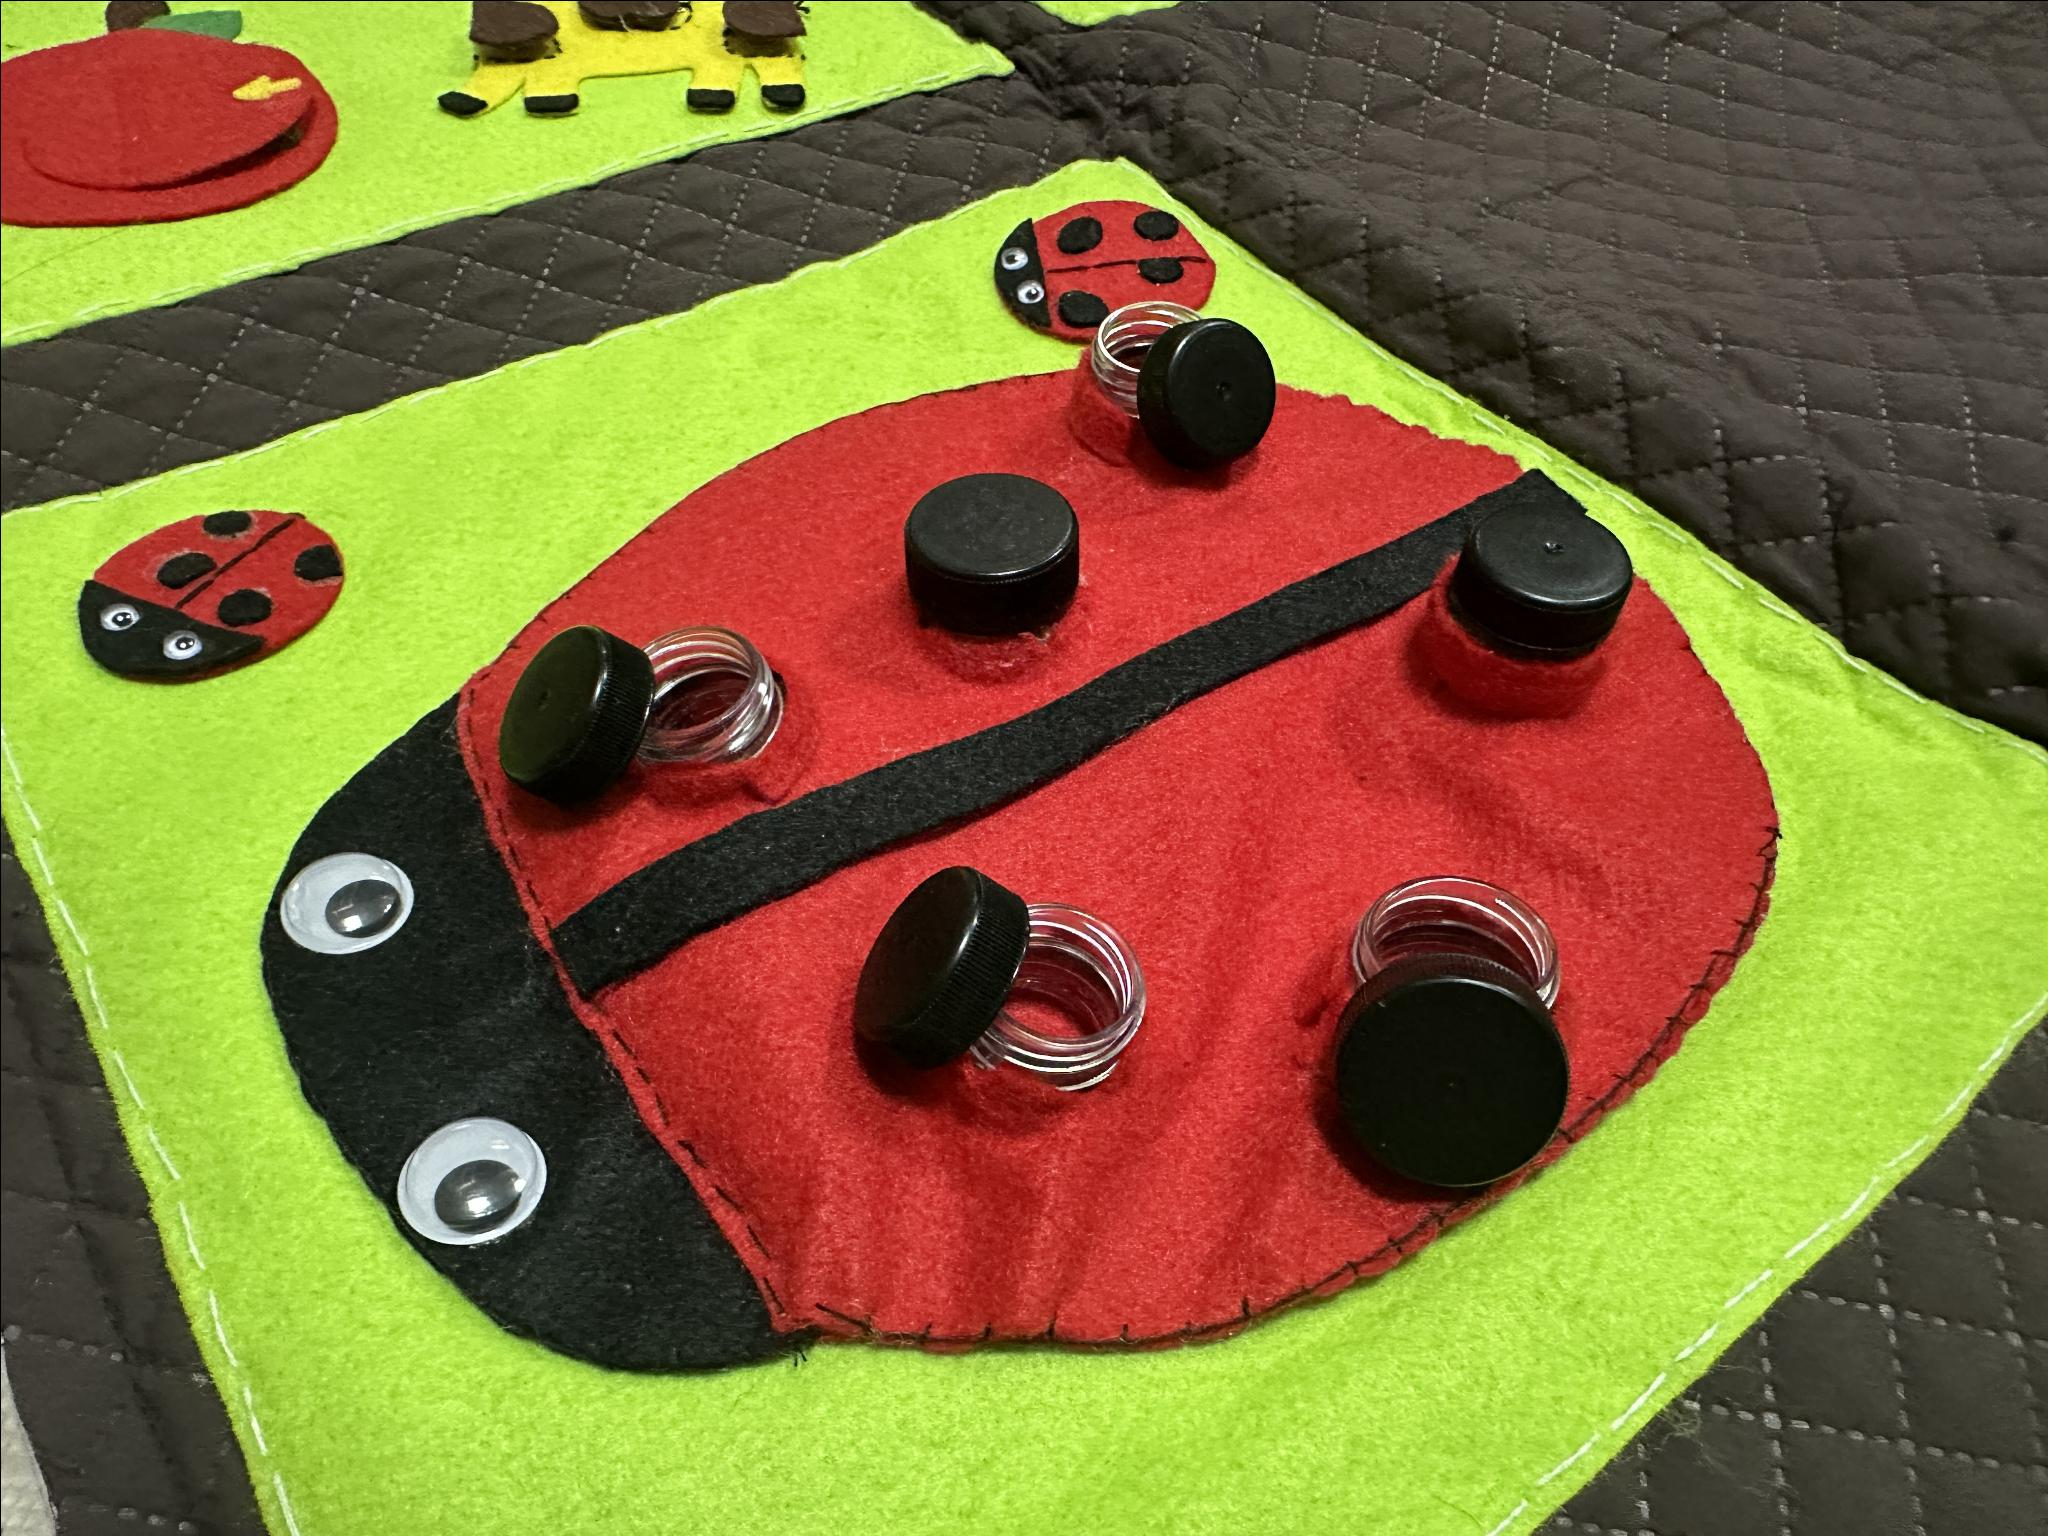cap_ng: (1321, 858, 1574, 1208), (847, 865, 1150, 1120), (495, 618, 822, 818), (1064, 295, 1290, 490)
cap_ok: (1422, 499, 1643, 752), (892, 461, 1108, 673)
